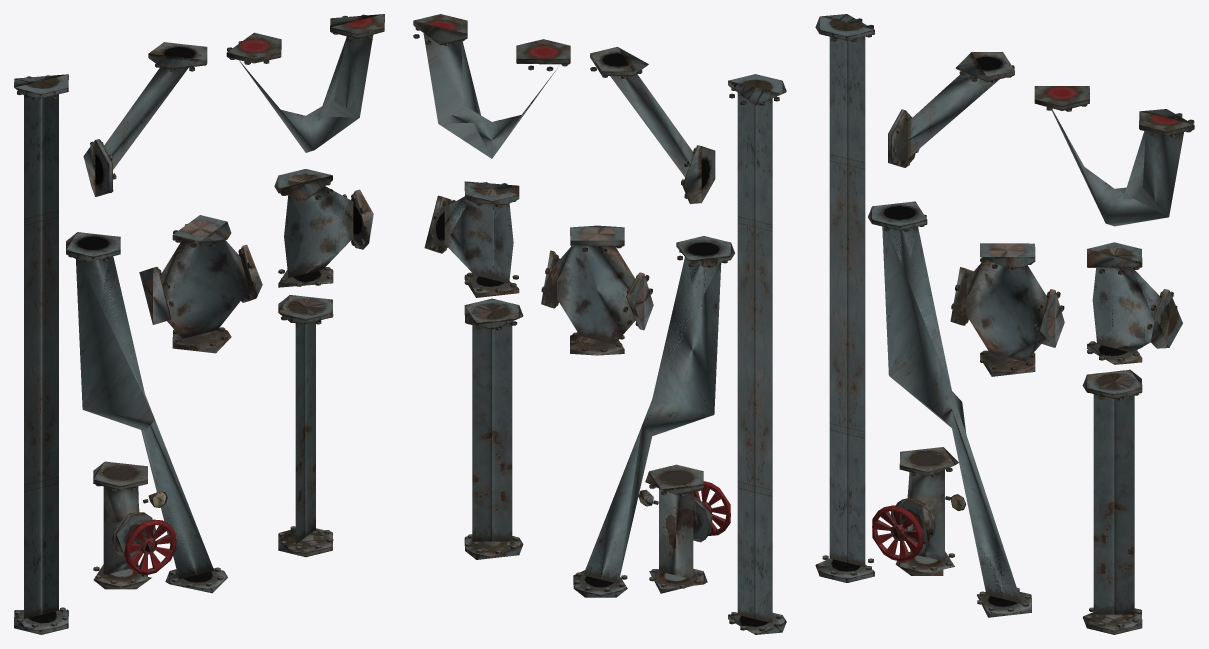
File: modular_industrial_pipes_01.glb
3 renders of one model, left to right at view 1: azimuth 30°, elevation 25°; view 2: azimuth 150°, elevation 25°; view 3: azimuth 330°, elevation 25°, orthographic.
Parts seen in each view (by area): view 1: modular_industrial_pipes_01_pipe01, modular_industrial_pipes_01_pipe05; view 2: modular_industrial_pipes_01_pipe01, modular_industrial_pipes_01_pipe05; view 3: modular_industrial_pipes_01_pipe01, modular_industrial_pipes_01_pipe05.
Boxes of the visible parts, <box> form: modular_industrial_pipes_01_pipe01: <box>14,42,333,634</box>; modular_industrial_pipes_01_pipe05: <box>93,14,384,589</box>; modular_industrial_pipes_01_pipe01: <box>464,47,786,634</box>; modular_industrial_pipes_01_pipe05: <box>413,14,730,593</box>; modular_industrial_pipes_01_pipe01: <box>815,14,1142,634</box>; modular_industrial_pipes_01_pipe05: <box>872,86,1194,575</box>.
Bounding box in the file's own units: 1.4 × 1.95 × 0.3073.
2 materials, 2 textured.
